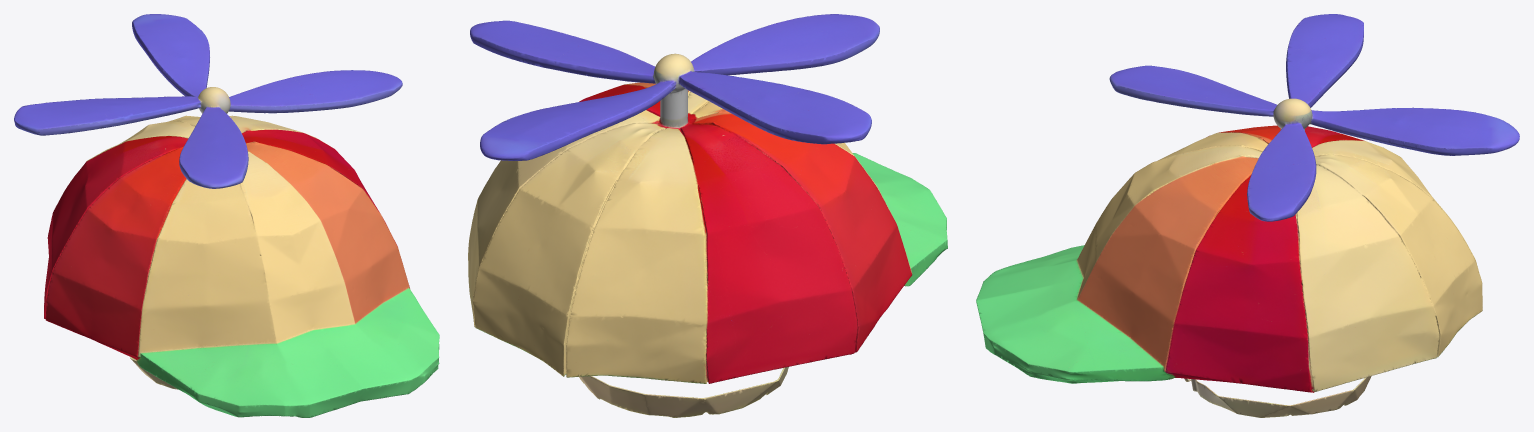
The model's file is accessories_set_4_item_09.glb.
3 views of the same model, side by side, from view 1: azimuth 30°, elevation 25°; view 2: azimuth 150°, elevation 25°; view 3: azimuth 270°, elevation 25° (orthographic). The views are drawn at different scales.
Size of the model in its own units: 1.51 by 1.09 by 1.9.
1 material, 1 textured.
